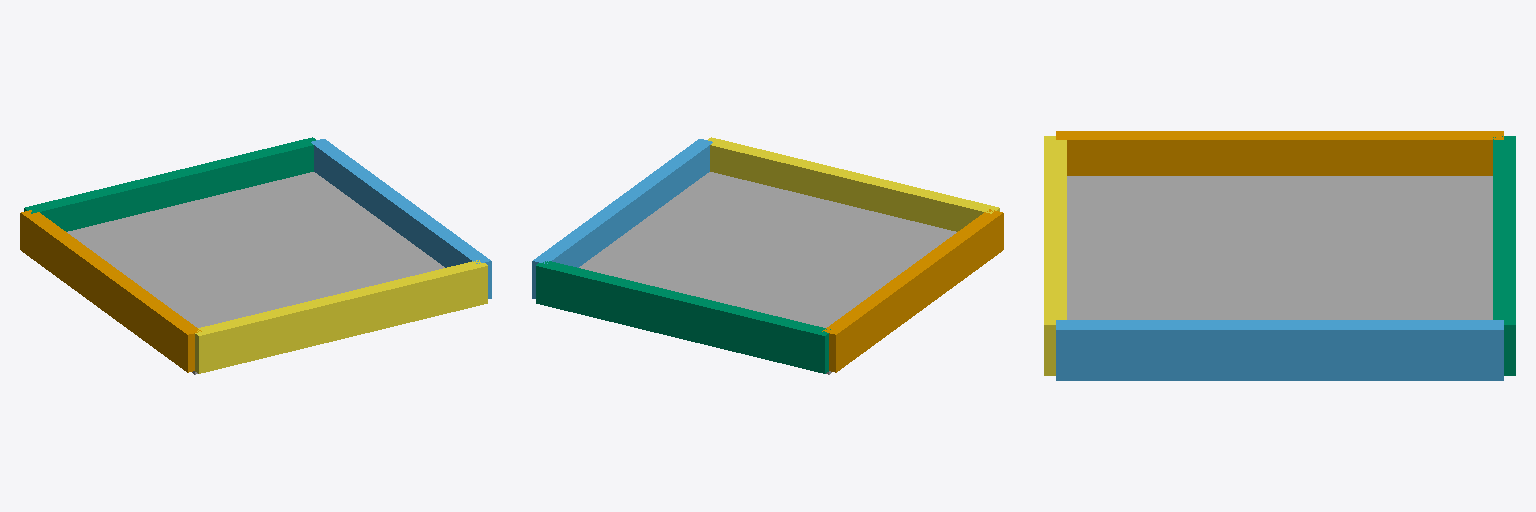
robot.urdf — turtlebot3_waffle:
<?xml version="1.0" ?>
<!-- =================================================================================== -->
<!-- |    This document was autogenerated by xacro from /opt/ros/noetic/share/turtlebot3_description/urdf/turtlebot3_waffle.urdf.xacro | -->
<!-- |    EDITING THIS FILE BY HAND IS NOT RECOMMENDED                                 | -->
<!-- =================================================================================== -->
<robot name="turtlebot3_waffle">
  <!-- Init colour -->
  <material name="black">
    <color rgba="0.0 0.0 0.0 1.0"/>
  </material>
  <material name="dark">
    <color rgba="0.3 0.3 0.3 1.0"/>
  </material>
  <material name="light_black">
    <color rgba="0.4 0.4 0.4 1.0"/>
  </material>
  <material name="blue">
    <color rgba="0.0 0.0 0.8 1.0"/>
  </material>
  <material name="green">
    <color rgba="0.0 0.8 0.0 1.0"/>
  </material>
  <material name="grey">
    <color rgba="0.5 0.5 0.5 1.0"/>
  </material>
  <material name="orange">
    <color rgba="1.0 0.4235294117647059 0.0392156862745098 1.0"/>
  </material>
  <material name="brown">
    <color rgba="0.8705882352941177 0.8117647058823529 0.7647058823529411 1.0"/>
  </material>
  <material name="red">
    <color rgba="0.8 0.0 0.0 1.0"/>
  </material>
  <material name="white">
    <color rgba="1.0 1.0 1.0 1.0"/>
  </material>
  <gazebo reference="base_link">
    <material>Gazebo/DarkGrey</material>
  </gazebo>
  <gazebo reference="wheel_left_link">
    <mu1>0.1</mu1>
    <mu2>0.1</mu2>
    <kp>500000.0</kp>
    <kd>10.0</kd>
    <minDepth>0.001</minDepth>
    <maxVel>0.1</maxVel>
    <fdir1>1 0 0</fdir1>
    <material>Gazebo/FlatBlack</material>
  </gazebo>
  <gazebo reference="wheel_right_link">
    <mu1>0.1</mu1>
    <mu2>0.1</mu2>
    <kp>500000.0</kp>
    <kd>10.0</kd>
    <minDepth>0.001</minDepth>
    <maxVel>0.1</maxVel>
    <fdir1>1 0 0</fdir1>
    <material>Gazebo/FlatBlack</material>
  </gazebo>
  <gazebo reference="caster_back_right_link">
    <mu1>0.1</mu1>
    <mu2>0.1</mu2>
    <kp>1000000.0</kp>
    <kd>100.0</kd>
    <minDepth>0.001</minDepth>
    <maxVel>1.0</maxVel>
    <material>Gazebo/FlatBlack</material>
  </gazebo>
  <gazebo reference="caster_back_left_link">
    <mu1>0.1</mu1>
    <mu2>0.1</mu2>
    <kp>1000000.0</kp>
    <kd>100.0</kd>
    <minDepth>0.001</minDepth>
    <maxVel>1.0</maxVel>
    <material>Gazebo/FlatBlack</material>
  </gazebo>
  <gazebo reference="imu_link">
    <sensor name="imu" type="imu">
      <always_on>true</always_on>
      <visualize>false</visualize>
    </sensor>
    <material>Gazebo/Grey</material>
  </gazebo>
 <gazebo>
    <plugin filename="libgazebo_ros_diff_drive.so" name="turtlebot3_waffle_controller">
      <commandTopic>cmd_vel</commandTopic>
      <odometryTopic>odom</odometryTopic>
      <odometryFrame>odom</odometryFrame>
      <odometrySource>world</odometrySource>
      <publishOdomTF>false</publishOdomTF>
      <robotBaseFrame>base_footprint</robotBaseFrame>
      <publishWheelTF>false</publishWheelTF>
      <publishTf>false</publishTf>
      <publishWheelJointState>false</publishWheelJointState>
      <legacyMode>false</legacyMode>
      <updateRate>30</updateRate>
      <leftJoint>wheel_left_joint</leftJoint>
      <rightJoint>wheel_right_joint</rightJoint>
      <wheelSeparation>0.287</wheelSeparation>
      <wheelDiameter>0.066</wheelDiameter>
      <wheelAcceleration>1</wheelAcceleration>
      <wheelTorque>10</wheelTorque>
      <rosDebugLevel>na</rosDebugLevel>
    </plugin>
  </gazebo>
  <link name="base_footprint"/>
  <joint name="base_joint" type="fixed">
    <parent link="base_footprint"/>
    <child link="base_link"/>
    <origin rpy="0 0 0" xyz="0 0 0.010"/>
  </joint>
  <link name="base_link">
    <visual>
      <origin rpy="0 0 0" xyz="-0.064 0 0.0"/>
      <geometry>
        <mesh filename="package://turtlebot3_description/meshes/bases/waffle_base.stl" scale="0.001 0.001 0.001"/>
      </geometry>
      <material name="light_black"/>
    </visual>
    <collision>
      <origin rpy="0 0 0" xyz="-0.064 0 0.047"/>
      <geometry>
        <box size="0.266 0.266 0.094"/>
      </geometry>
    </collision>
    <inertial>
      <origin rpy="0 0 0" xyz="0 0 0"/>
      <mass value="1.3729096e+00"/>
      <inertia ixx="8.7002718e-03" ixy="-4.7576583e-05" ixz="1.1160499e-04" iyy="8.6195418e-03" iyz="-3.5422299e-06" izz="1.4612727e-02"/>
    </inertial>
  </link>
  <joint name="wheel_left_joint" type="continuous">
    <parent link="base_link"/>
    <child link="wheel_left_link"/>
    <origin rpy="-1.57 0 0" xyz="0.0 0.144 0.023"/>
    <axis xyz="0 0 1"/>
  </joint>
  <link name="wheel_left_link">
    <visual>
      <origin rpy="1.57 0 0" xyz="0 0 0"/>
      <geometry>
        <mesh filename="package://turtlebot3_description/meshes/wheels/left_tire.stl" scale="0.001 0.001 0.001"/>
      </geometry>
      <material name="dark"/>
    </visual>
    <collision>
      <origin rpy="0 0 0" xyz="0 0 0"/>
      <geometry>
        <cylinder length="0.018" radius="0.033"/>
      </geometry>
    </collision>
    <inertial>
      <origin xyz="0 0 0"/>
      <mass value="2.8498940e-02"/>
      <inertia ixx="1.1175580e-05" ixy="-4.2369783e-11" ixz="-5.9381719e-09" iyy="1.1192413e-05" iyz="-1.4400107e-11" izz="2.0712558e-05"/>
    </inertial>
  </link>
  <joint name="wheel_right_joint" type="continuous">
    <parent link="base_link"/>
    <child link="wheel_right_link"/>
    <origin rpy="-1.57 0 0" xyz="0.0 -0.144 0.023"/>
    <axis xyz="0 0 1"/>
  </joint>
  <link name="wheel_right_link">
    <visual>
      <origin rpy="1.57 0 0" xyz="0 0 0"/>
      <geometry>
        <mesh filename="package://turtlebot3_description/meshes/wheels/right_tire.stl" scale="0.001 0.001 0.001"/>
      </geometry>
      <material name="dark"/>
    </visual>
    <collision>
      <origin rpy="0 0 0" xyz="0 0 0"/>
      <geometry>
        <cylinder length="0.018" radius="0.033"/>
      </geometry>
    </collision>
    <inertial>
      <origin xyz="0 0 0"/>
      <mass value="2.8498940e-02"/>
      <inertia ixx="1.1175580e-05" ixy="-4.2369783e-11" ixz="-5.9381719e-09" iyy="1.1192413e-05" iyz="-1.4400107e-11" izz="2.0712558e-05"/>
    </inertial>
  </link>
  <joint name="caster_back_right_joint" type="fixed">
    <parent link="base_link"/>
    <child link="caster_back_right_link"/>
    <origin rpy="-1.57 0 0" xyz="-0.177 -0.064 -0.004"/>
  </joint>
  <link name="caster_back_right_link">
    <collision>
      <origin rpy="0 0 0" xyz="0 0.001 0"/>
      <geometry>
        <box size="0.030 0.009 0.020"/>
      </geometry>
    </collision>
    <inertial>
      <origin xyz="0 0 0"/>
      <mass value="0.005"/>
      <inertia ixx="0.001" ixy="0.0" ixz="0.0" iyy="0.001" iyz="0.0" izz="0.001"/>
    </inertial>
  </link>
  <joint name="caster_back_left_joint" type="fixed">
    <parent link="base_link"/>
    <child link="caster_back_left_link"/>
    <origin rpy="-1.57 0 0" xyz="-0.177 0.064 -0.004"/>
  </joint>
  <link name="caster_back_left_link">
    <collision>
      <origin rpy="0 0 0" xyz="0 0.001 0"/>
      <geometry>
        <box size="0.030 0.009 0.020"/>
      </geometry>
    </collision>
    <inertial>
      <origin xyz="0 0 0"/>
      <mass value="0.005"/>
      <inertia ixx="0.001" ixy="0.0" ixz="0.0" iyy="0.001" iyz="0.0" izz="0.001"/>
    </inertial>
  </link>
  <joint name="imu_joint" type="fixed">
    <parent link="base_link"/>
    <child link="imu_link"/>
    <origin rpy="0 0 0" xyz="0.0 0 0.068"/>
  </joint>
  <link name="imu_link"/>
  <joint name="scan_joint" type="fixed">
    <parent link="base_link"/>
    <child link="bottom"/>
    <origin rpy="0 0 0" xyz="-0.064 0 0.122"/>
  </joint>


<link name ="bottom"> <!--2-->
  <collision>
    <origin xyz="0 0 0" rpy="0 0 0"/>
    <geometry>
      <box size="0.4 0.4 0.02"/> <!--3-->
    </geometry>
  </collision>

  <visual>
    <origin xyz="0 0 0" rpy="0 0 0"/>
    <geometry>
      <box size="0.4 0.4 0.02"/>
    </geometry>
  </visual>

  <inertial>
    <origin xyz="0 0 0" rpy="0 0 0" />
    <mass value="0.05" />
    <inertia
      ixx="0.001" ixy="0.0"  ixz="0.0"
      iyy="0.001" iyz="0.0"
      izz="0.001" />
  </inertial>
</link>

<joint name = "left_wall" type = "fixed">
  <parent link="bottom"/>
  <child link = "left"/>
</joint>


<link name = "left">
  <collision> <!--4-->
    <origin xyz="-0.2 0 0.02" rpy="0 0 0"/>
    <geometry>
      <box size="0.02 0.4 0.05"/>
    </geometry>
  </collision>

  <visual>
    <origin xyz="-0.2 0 0.02" rpy="0 0 0"/>
    <geometry>
      <box size="0.02 0.4 0.05"/>
    </geometry>
  </visual>

  <inertial>
    <origin xyz="-0.2 0 0.02" rpy="0 0 0" />
    <mass value="0.05" />
    <inertia
      ixx="0.001" ixy="0.0"  ixz="0.0"
      iyy="0.001" iyz="0.0"
      izz="0.001" />
  </inertial>
</link>

<joint name = "right_wall" type = "fixed">
  <parent link="bottom"/>
  <child link = "right"/>
</joint>

<link name="right">
  <collision>
    <origin xyz="0.2 0 0.02" rpy="0 0 0"/>
    <geometry>
      <box size="0.02 0.4 0.05"/>
    </geometry>
  </collision>

  <visual>
    <origin xyz="0.2 0 0.02" rpy="0 0 0"/>
    <geometry>
      <box size="0.02 0.4 0.05"/>
    </geometry>
  </visual>

  <inertial>
    <origin xyz="0.2 0 0.02" rpy="0 0 0" />
    <mass value="0.05" />
    <inertia
      ixx="0.001" ixy="0.0"  ixz="0.0"
      iyy="0.001" iyz="0.0"
      izz="0.001" />
  </inertial>
</link>

<joint name = "back_wall" type = "fixed">
  <parent link="bottom"/>
  <child link = "back"/>
</joint>

<link name="back">
  <collision>
    <origin xyz="0 0.2 0.02" rpy="0 0 0"/>
    <geometry>
      <box size="0.4 0.02 0.05"/>
    </geometry>
  </collision>

  <visual>
    <origin xyz="0 0.2 0.02" rpy="0 0 0"/>
    <geometry>
      <box size="0.4 0.02 0.05"/>
    </geometry>
  </visual>

  <inertial>
    <origin xyz="0 0.2 0.02" rpy="0 0 0" />
    <mass value="0.05" />
    <inertia
      ixx="0.001" ixy="0.0"  ixz="0.0"
      iyy="0.001" iyz="0.0"
      izz="0.001" />
  </inertial>
</link>

<joint name = "front_wall" type = "fixed">
  <parent link="bottom"/>
  <child link = "front"/>
</joint>

<link name="front">
  <collision>
    <origin xyz="0 -0.2 0.02" rpy= "0 0 0"/>
    <geometry>
      <box size="0.4 0.02 0.05"/>
    </geometry>
  </collision>

  <visual>
    <origin xyz="0 -0.2 0.02" rpy="0 0 0"/>
    <geometry>
      <box size="0.4 0.02 0.05"/>
    </geometry>
  </visual>

  <inertial>
    <origin xyz="0 -0.2 0.02" rpy="0 0 0"/>
    <mass value="0.05" />
    <inertia
      ixx="0.001" ixy="0.0"  ixz="0.0"
      iyy="0.001" iyz="0.0"
      izz="0.001" />
  </inertial>
</link>

<gazebo reference="bottom">
  <mu1>10</mu1>
  <mu2>10</mu2>
  <material>Gazebo/Blue</material>
</gazebo>

<gazebo reference="right">
  <mu1>10</mu1>
  <mu2>10</mu2>
  <material>Gazebo/Blue</material>
</gazebo>

<gazebo reference="left">
  <mu1>10</mu1>
  <mu2>10</mu2>
  <material>Gazebo/Blue</material>
</gazebo>

<gazebo reference="back">
  <mu1>10</mu1>
  <mu2>10</mu2>
  <material>Gazebo/Blue</material>
</gazebo>

<gazebo reference="front">
  <mu1>10</mu1>
  <mu2>10</mu2>
  <material>Gazebo/Blue</material>
</gazebo>

  <joint name="camera_joint" type="fixed">
    <origin rpy="0 0 0" xyz="0.064 -0.065 0.094"/>
    <parent link="base_link"/>
    <child link="camera_link"/>
  </joint>
  <link name="camera_link">
    <visual>
      <origin rpy="1.57 0 1.57" xyz="0 0 0"/>
      <geometry>
        <mesh filename="package://turtlebot3_description/meshes/sensors/r200.dae"/>
      </geometry>
    </visual>
    <collision>
      <origin rpy="0 0 0" xyz="0.003 0.065 0.007"/>
      <geometry>
        <box size="0.012 0.132 0.020"/>
      </geometry>
    </collision>
    <!-- This inertial field needs doesn't contain reliable data!! -->
    <!--   <inertial>
      <mass value="0.564" />
      <origin xyz="0 0 0" />
      <inertia ixx="0.003881243" ixy="0.0" ixz="0.0"
               iyy="0.000498940" iyz="0.0"
               izz="0.003879257" />
    </inertial>-->
  </link>
  <joint name="camera_rgb_joint" type="fixed">
    <origin rpy="0 0 0" xyz="0.005 0.018 0.013"/>
    <parent link="camera_link"/>
    <child link="camera_rgb_frame"/>
  </joint>
  <link name="camera_rgb_frame"/>
  <joint name="camera_rgb_optical_joint" type="fixed">
    <origin rpy="-1.57 0 -1.57" xyz="0 0 0"/>
    <parent link="camera_rgb_frame"/>
    <child link="camera_rgb_optical_frame"/>
  </joint>
  <link name="camera_rgb_optical_frame"/>
  <joint name="camera_depth_joint" type="fixed">
    <origin rpy="0 0 0" xyz="0.005 0.027999999999999997 0.013"/>
    <parent link="camera_link"/>
    <child link="camera_depth_frame"/>
  </joint>
  <link name="camera_depth_frame"/>
  <joint name="camera_depth_optical_joint" type="fixed">
    <origin rpy="-1.57 0 -1.57" xyz="0 0 0"/>
    <parent link="camera_depth_frame"/>
    <child link="camera_depth_optical_frame"/>
  </joint>
  <link name="camera_depth_optical_frame"/>
</robot>

--- Render facts (derived) ---
3 views of the same robot in one strip: view 1: azimuth 30°, elevation 25°; view 2: azimuth 150°, elevation 25°; view 3: azimuth 270°, elevation 25° (orthographic).
Robot: turtlebot3_waffle — 17 links, 16 joints (2 continuous, 14 fixed); root link base_footprint; default pose: every joint at zero.
Visible links, largest first — view 1: bottom, front, back, left, right; view 2: bottom, back, front, left, right; view 3: bottom, right, left, back, front.
Boxes of the visible links, bbox=[...] form: bottom: bbox=[67, 172, 444, 374]; front: bbox=[195, 260, 487, 373]; back: bbox=[24, 137, 315, 231]; left: bbox=[20, 210, 201, 372]; right: bbox=[311, 139, 491, 298]; bottom: bbox=[579, 172, 956, 374]; back: bbox=[536, 261, 830, 373]; front: bbox=[708, 137, 999, 231]; left: bbox=[822, 209, 1003, 372]; right: bbox=[532, 139, 712, 298]; bottom: bbox=[1067, 176, 1492, 319]; right: bbox=[1056, 320, 1503, 380]; left: bbox=[1056, 131, 1503, 175]; back: bbox=[1493, 136, 1515, 375]; front: bbox=[1044, 136, 1066, 375].
Size in the robot's own frame: 0.42 by 0.42 by 0.055 metres.
Meshes: 4 distinct files referenced, 0 mesh visuals loaded (none loaded); not drawn: 4 (reference not matched to a file when rendering).